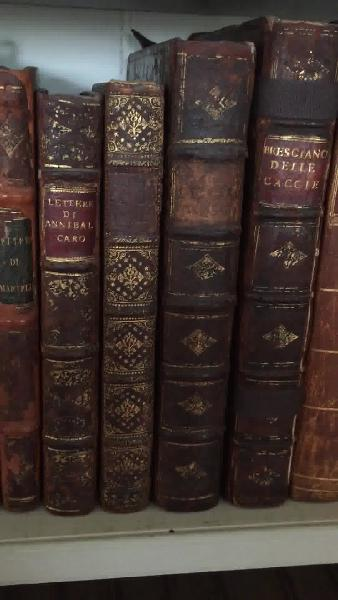Aa6-29: (42, 93, 100, 519)
Aa6-30: (103, 72, 159, 514)
Aa6-31: (162, 30, 248, 515)
Aa6-32: (221, 20, 338, 518)
